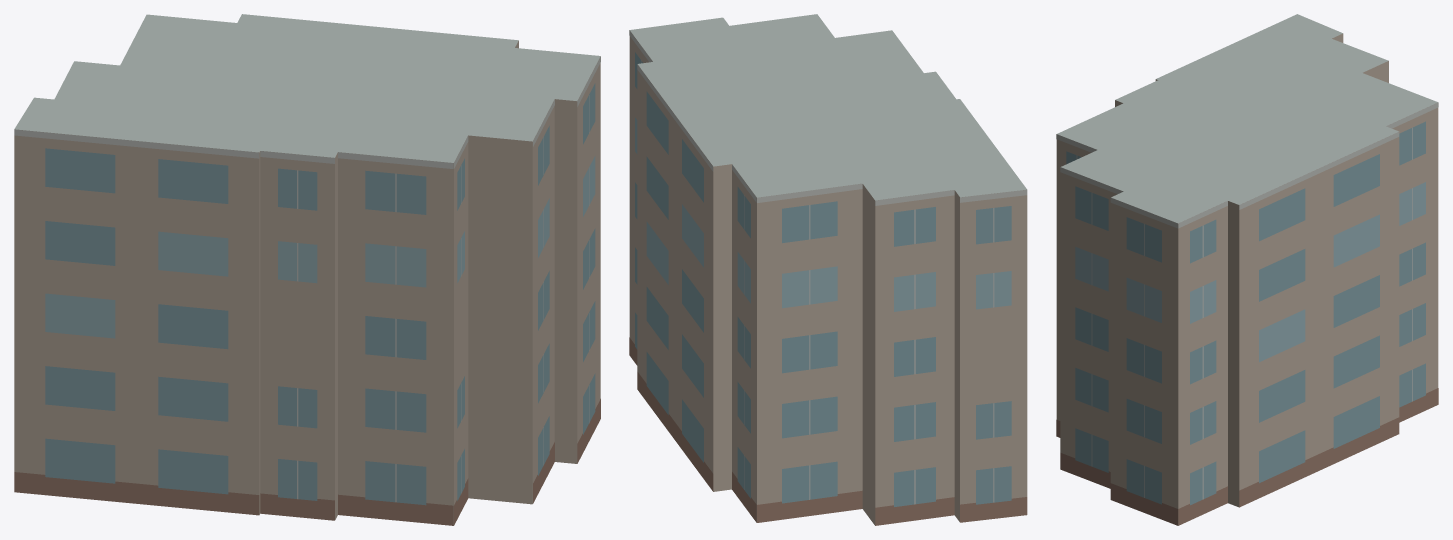
The model's file is survey-upis-32629636.glb.
3 views of the same model, side by side, from view 1: azimuth 30°, elevation 25°; view 2: azimuth 150°, elevation 25°; view 3: azimuth 270°, elevation 25° (orthographic). The views are drawn at different scales.
Parts seen in each view (by area): view 1: survey-upis-32629636.tmp; view 2: survey-upis-32629636.tmp; view 3: survey-upis-32629636.tmp.
Part boxes in pixels (box(x1,y1,x2,y2)): survey-upis-32629636.tmp: box(14, 14, 600, 525); survey-upis-32629636.tmp: box(629, 14, 1027, 525); survey-upis-32629636.tmp: box(1056, 14, 1438, 525).
Size of the model in its own units: 21.4 by 14.4 by 16.49.
